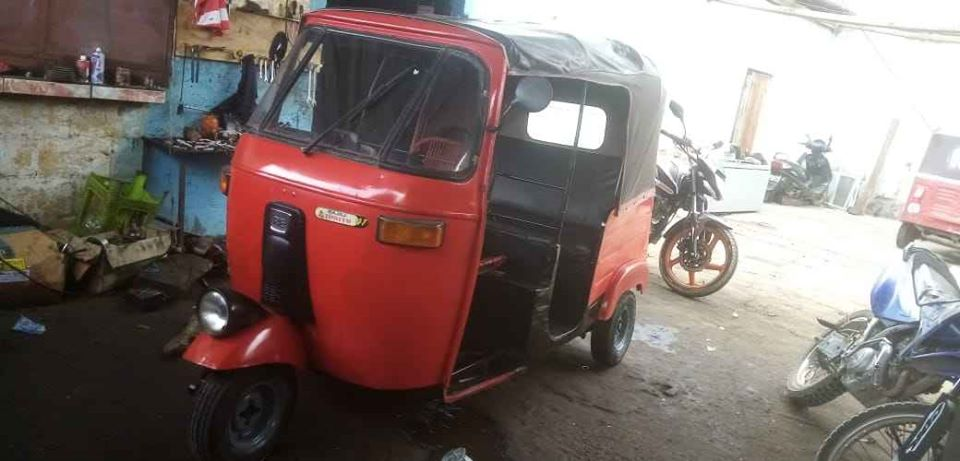mototaxi: (171, 4, 651, 458)
